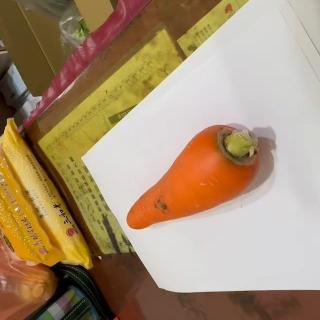carrot: (125, 123, 261, 230)
